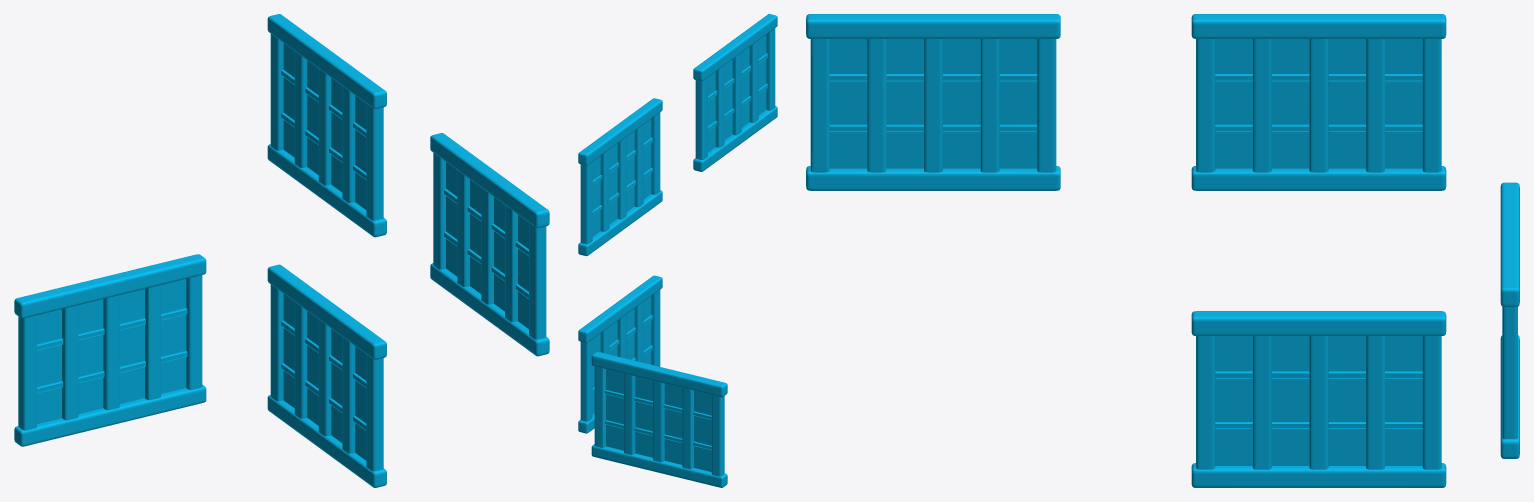
File: SM_Wood_Window_03.fbx
The picture shows the model from 3 angles, left to right: view 1: azimuth 30°, elevation 25°; view 2: azimuth 150°, elevation 25°; view 3: azimuth 270°, elevation 25°; orthographic projection. The views are drawn at different scales.
Parts seen in each view (by area): view 1: SM_Wood_Window_03; view 2: SM_Wood_Window_03; view 3: SM_Wood_Window_03.
Part boxes in pixels (x1,y1,x2,y2): SM_Wood_Window_03: (14, 14, 549, 487); SM_Wood_Window_03: (578, 14, 777, 487); SM_Wood_Window_03: (806, 14, 1519, 487).
Size of the model in its own units: 1.97 by 3.14 by 4.34.
